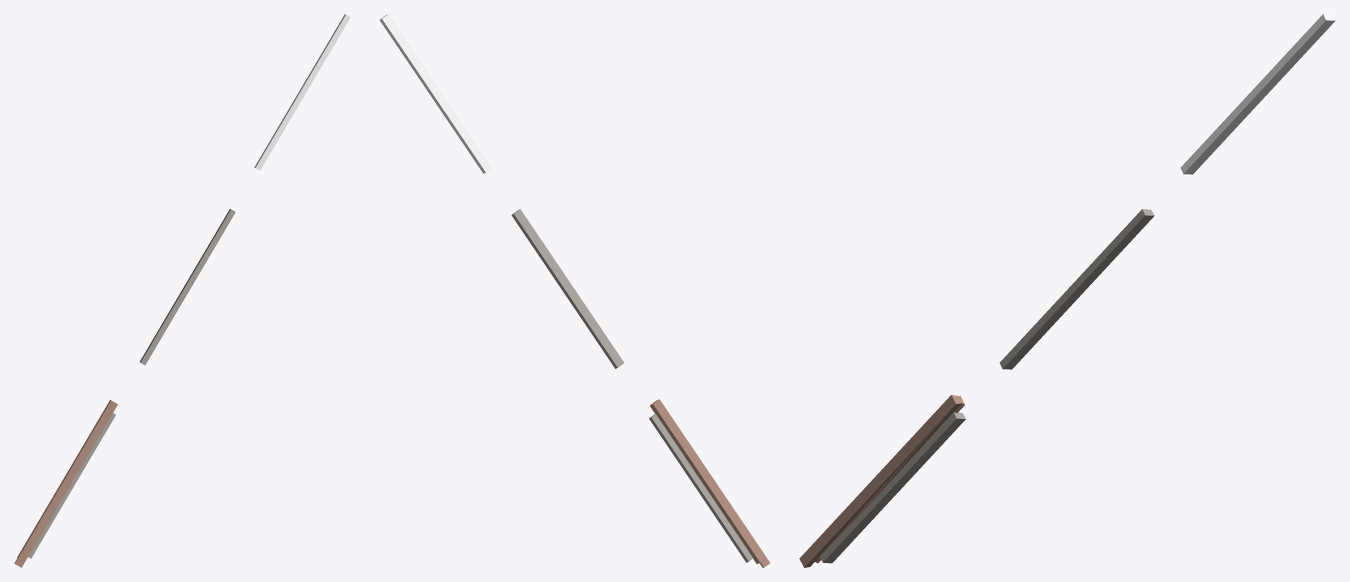
The picture shows the model from 3 angles, left to right: view 1: azimuth 30°, elevation 25°; view 2: azimuth 150°, elevation 25°; view 3: azimuth 330°, elevation 25°; orthographic projection. The views are drawn at different scales.
Parts seen in each view (by area): view 1: mesh; view 2: mesh; view 3: mesh.
Boxes of the visible parts, bbox=[...] form: mesh: bbox=[14, 14, 350, 567]; mesh: bbox=[379, 14, 769, 567]; mesh: bbox=[799, 14, 1335, 567].
Size of the model in its own units: 5.43 by 6.7 by 0.5917.
